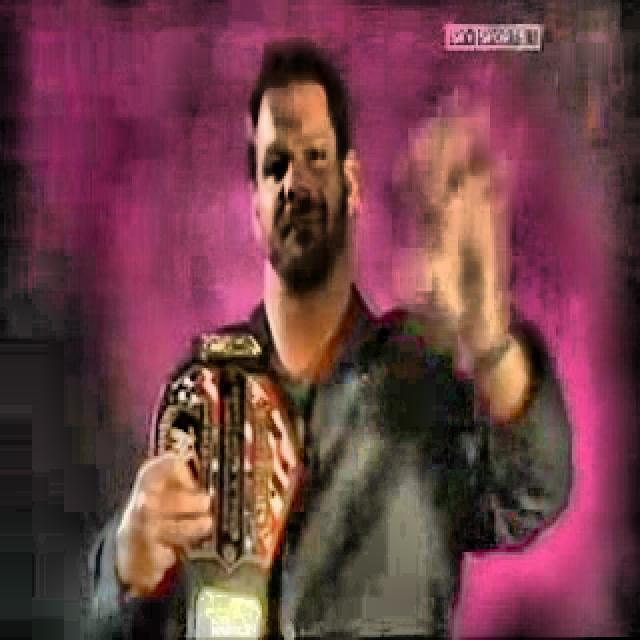L: (89, 45, 568, 636)
